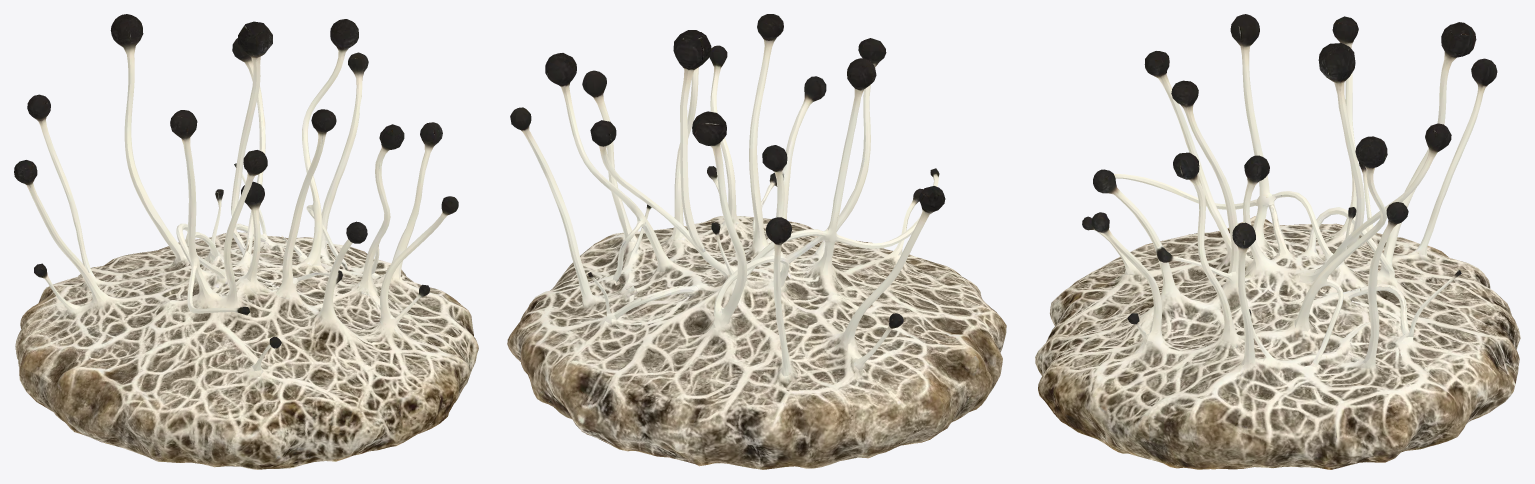
File: bread_mold.glb
The picture shows the model from 3 angles, left to right: view 1: azimuth 30°, elevation 25°; view 2: azimuth 150°, elevation 25°; view 3: azimuth 270°, elevation 25°; orthographic projection. The views are drawn at different scales.
Parts seen in each view (by area): view 1: Mesh0; view 2: Mesh0; view 3: Mesh0.
Boxes of the visible parts, box(x1,y1,x2,y2) form: Mesh0: box(14, 14, 478, 469); Mesh0: box(507, 14, 1006, 469); Mesh0: box(1035, 14, 1520, 469).
Size of the model in its own units: 1.9 by 1.59 by 1.88.
1 material, 1 textured.
